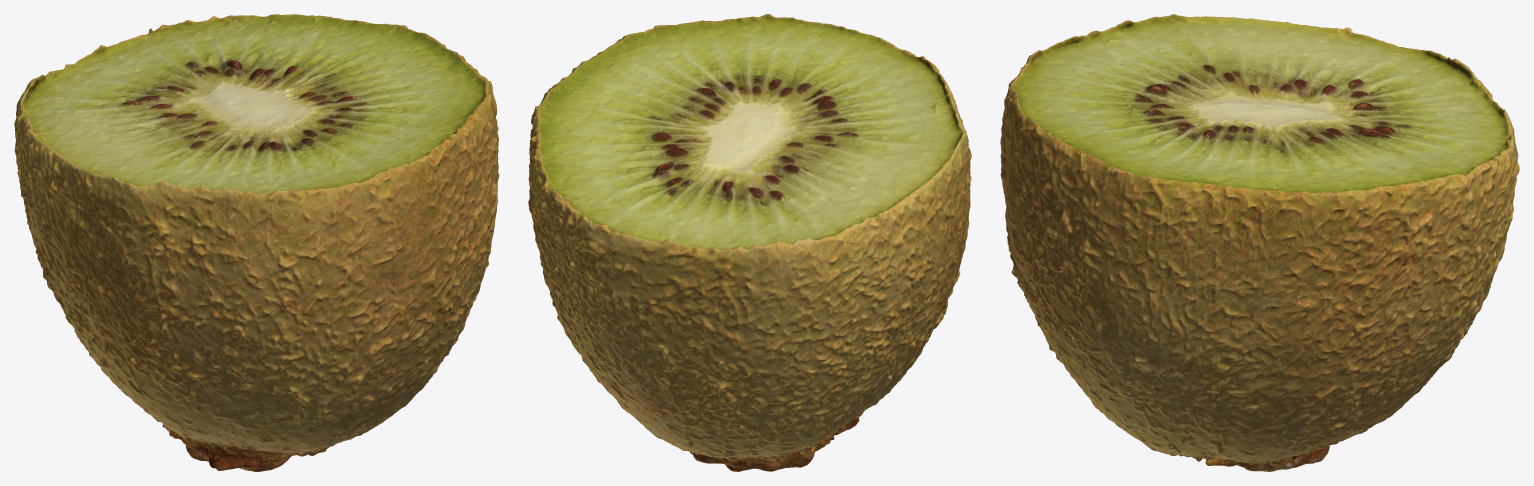
File: half_kiwi.glb
The picture shows the model from 3 angles, left to right: view 1: azimuth 30°, elevation 25°; view 2: azimuth 150°, elevation 25°; view 3: azimuth 270°, elevation 25°; orthographic projection. The views are drawn at different scales.
Visible parts, largest first — view 1: ckwobjcleanermaterialmergergles; view 2: ckwobjcleanermaterialmergergles; view 3: ckwobjcleanermaterialmergergles.
Part boxes in pixels (box(x1,y1,x2,y2)): ckwobjcleanermaterialmergergles: box(14, 14, 499, 471); ckwobjcleanermaterialmergergles: box(528, 14, 971, 471); ckwobjcleanermaterialmergergles: box(1000, 14, 1519, 471).
Size of the model in its own units: 1.15 by 1.01 by 1.26.
1 material, 1 textured.
